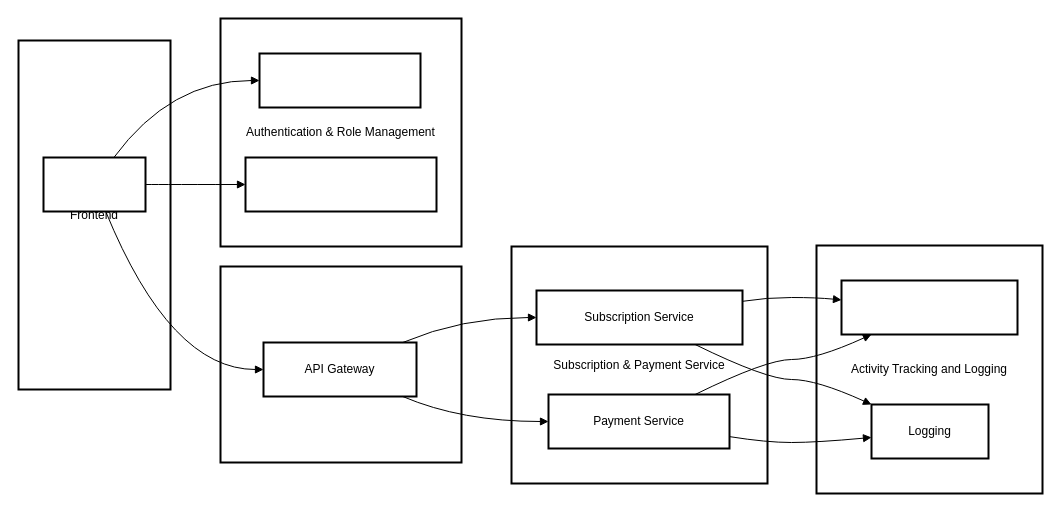
This 1060x511 diagram has some shape labels left out. Each missing label, with the centre of its shape:
"Activity Tracking" belongs at (929,307).
"Authentication" belongs at (339,80).
"React" belongs at (94,184).
"Role Management" belongs at (340,184).
